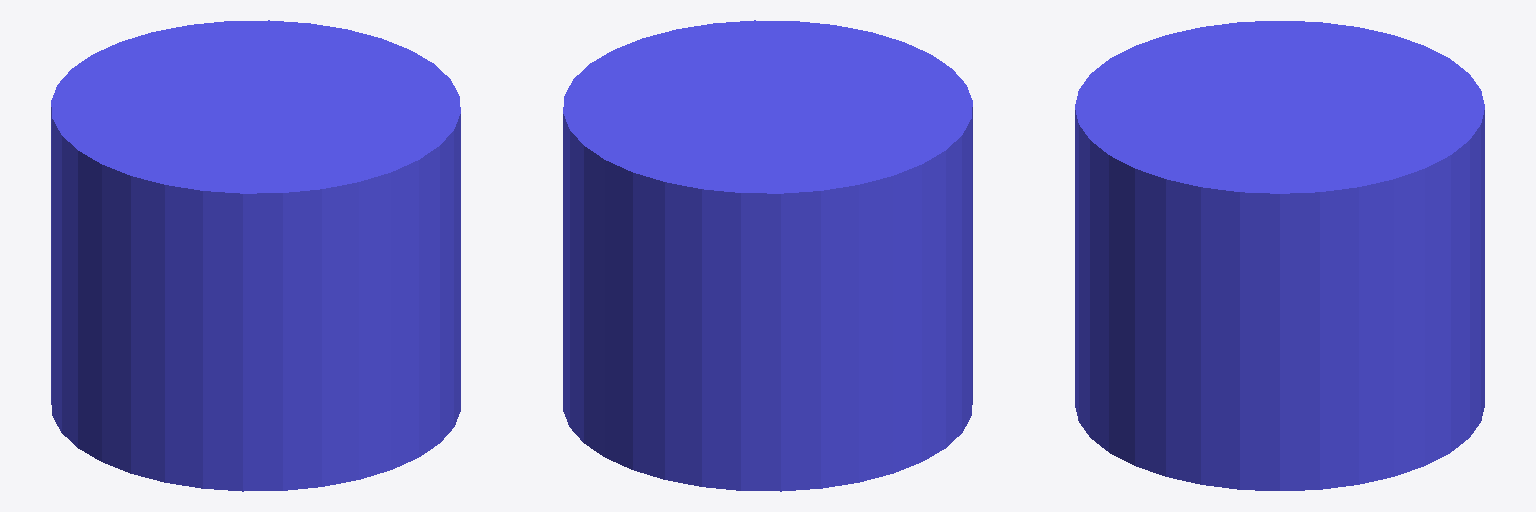
The robot description file, URDF, robot "circle.urdf":
<?xml version="1.0" ?>
<robot name="circle.urdf">
  <link name="baseLink">
    <contact>
      <lateral_friction value="0.5"/>
      <rolling_friction value="0.0001"/>
      <inertia_scaling value="1.0"/>
    </contact>
    <inertial>
      <origin rpy="0 0 0" xyz="0 0 0"/>
       <mass value=".01"/>
       <inertia ixx="1" ixy="0" ixz="0" iyy="1" iyz="0" izz="1"/>
    </inertial>
    <visual>
      <origin rpy="0 0 0" xyz="0 0 0"/>
      <geometry>
        <mesh filename="circle.obj" scale="1.0 1.0 1.0"/>
      </geometry>
       <material name="blue">
        <color rgba="0.4 0.4 1.0 1"/>
      </material>
    </visual>
    <collision>
      <origin rpy="0 0 0" xyz="0 0 0"/>
      <geometry>
        <mesh filename="circle.obj" scale="1.0 1.0 1.0"/>
      </geometry>
    </collision>
  </link>
</robot>

--- What the picture shows (computed from the rendered views, not written in the file) ---
3 views of the same robot in one strip: view 1: azimuth 30°, elevation 25°; view 2: azimuth 150°, elevation 25°; view 3: azimuth 270°, elevation 25° (orthographic).
Robot: circle.urdf — 1 links, 0 joints (none); root link baseLink; default pose: all joints at 0.
Visible links, largest first — view 1: baseLink; view 2: baseLink; view 3: baseLink.
Link boxes in pixels (left/top/right/bottom): baseLink: left=51, top=20, right=460, bottom=491; baseLink: left=563, top=20, right=972, bottom=491; baseLink: left=1075, top=21, right=1484, bottom=490.
Size in the robot's own frame: 0.05 by 0.05 by 0.04 metres.
1 mesh visuals loaded from 1 distinct referenced files (1 OBJ).
